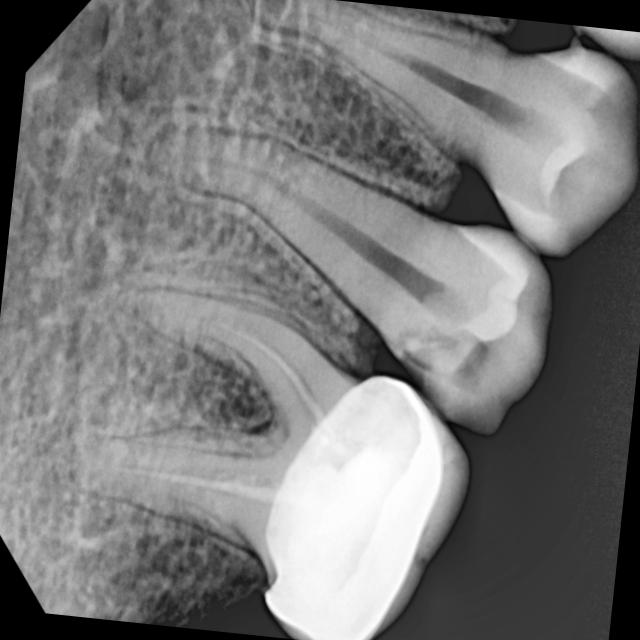Crown: (262, 378, 442, 640)
Normal: (135, 82, 579, 450), (239, 0, 640, 255)
RCT: (62, 285, 347, 537)
